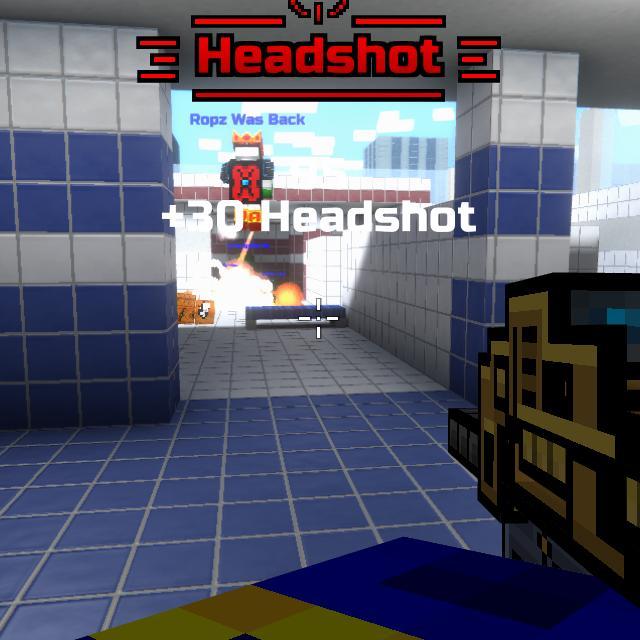Enemy: (238, 175, 255, 198)
